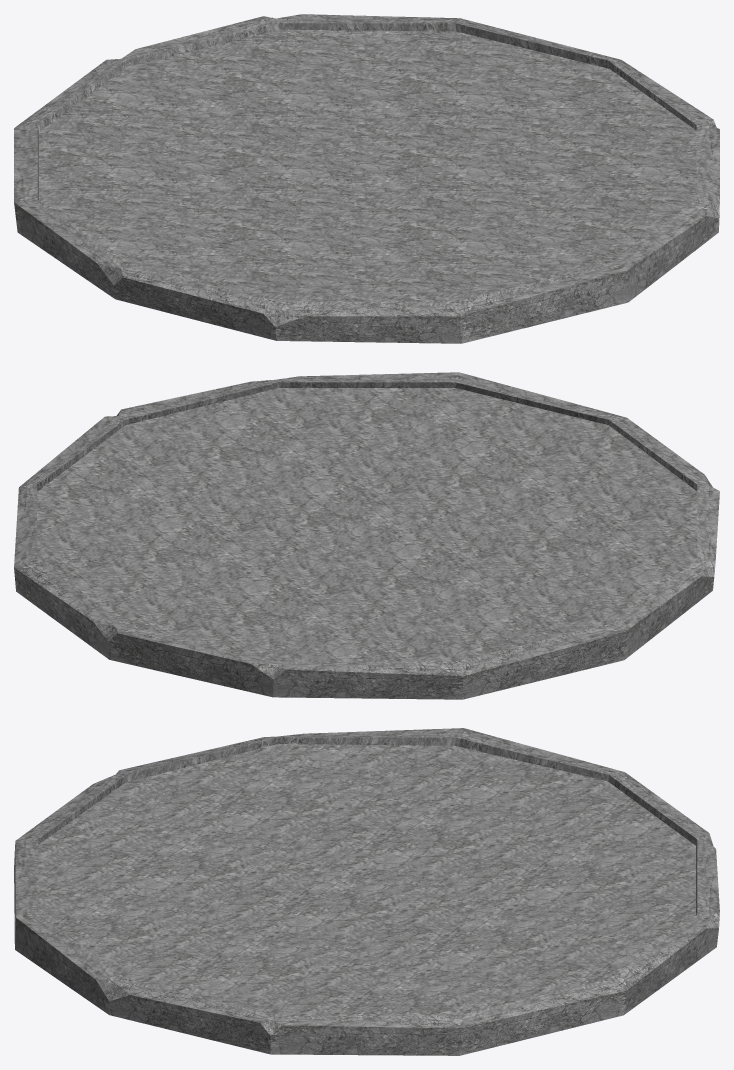
File: materials_3_base_2.fbx
3 views of the same model, one above another, from view 1: azimuth 30°, elevation 25°; view 2: azimuth 150°, elevation 25°; view 3: azimuth 270°, elevation 25° (orthographic).
Visible parts, largest first — view 1: materials_3_base_2; view 2: materials_3_base_2; view 3: materials_3_base_2.
Part boxes in pixels (left/top/right/bottom): materials_3_base_2: left=14, top=14, right=719, bottom=343; materials_3_base_2: left=14, top=372, right=719, bottom=699; materials_3_base_2: left=14, top=728, right=719, bottom=1055.
Size of the model in its own units: 743 by 37.4 by 745.
